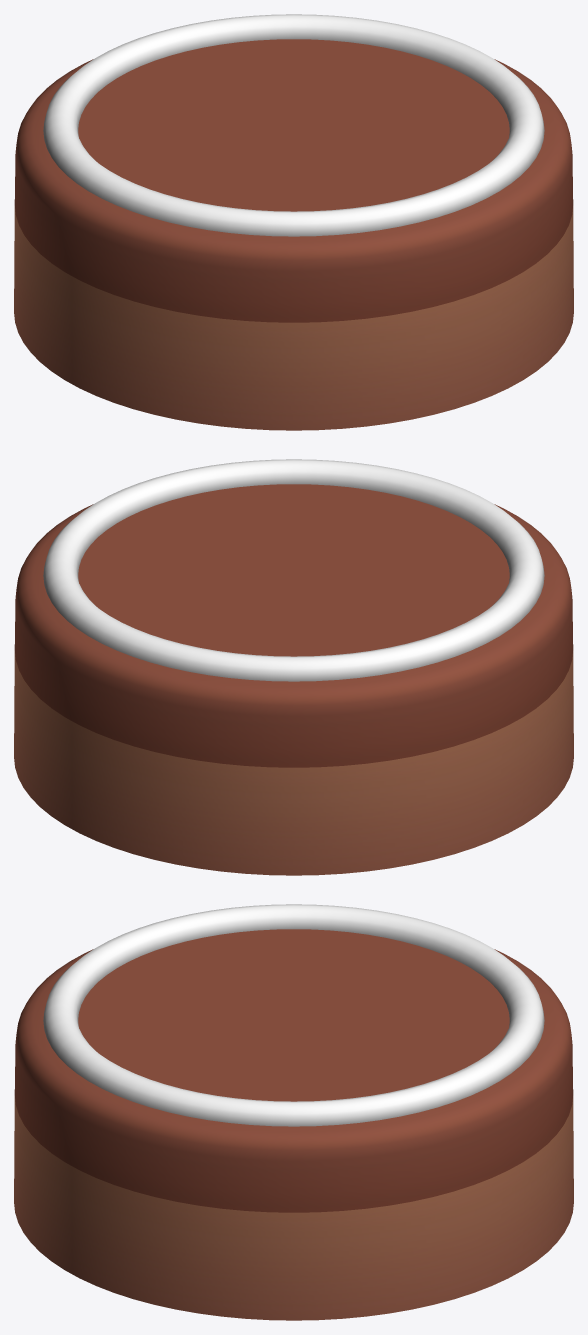
The model's file is cake05.FBX.
3 views of the same model, one above another, from view 1: azimuth 30°, elevation 25°; view 2: azimuth 150°, elevation 25°; view 3: azimuth 270°, elevation 25° (orthographic).
Visible parts, largest first — view 1: cake05; view 2: cake05; view 3: cake05.
Boxes of the visible parts, x1,y1,x2,y2 form: cake05: (14,14,573,430); cake05: (14,459,573,875); cake05: (14,904,573,1320).
Size of the model in its own units: 0.0193 by 0.00752 by 0.0193.
